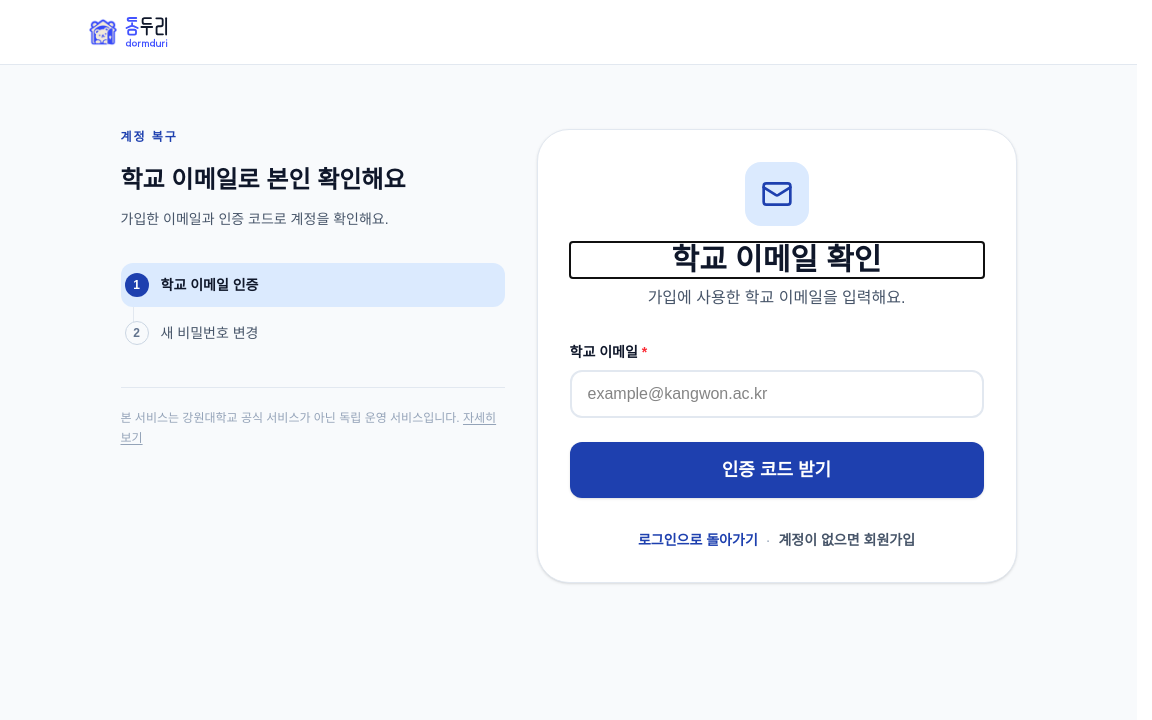
Scenario: PasswordResetPageClient › code request 성공은 임의 지연 없이 neutral verification 화면으로 이동한다
Type "test@kangwon.ac.kr" into the field labelled "학교 이메일*" at (776, 394), box [570,370,984,418]
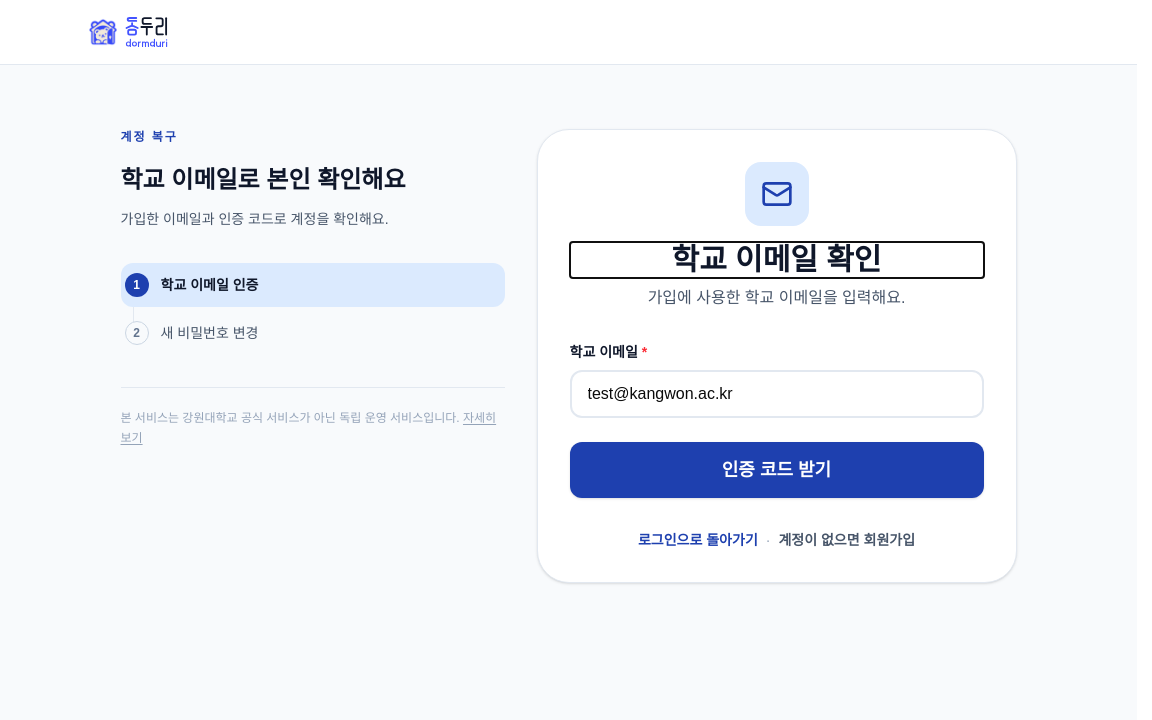
Click the button "인증 코드 받기" at (776, 470), box [570,442,984,498]
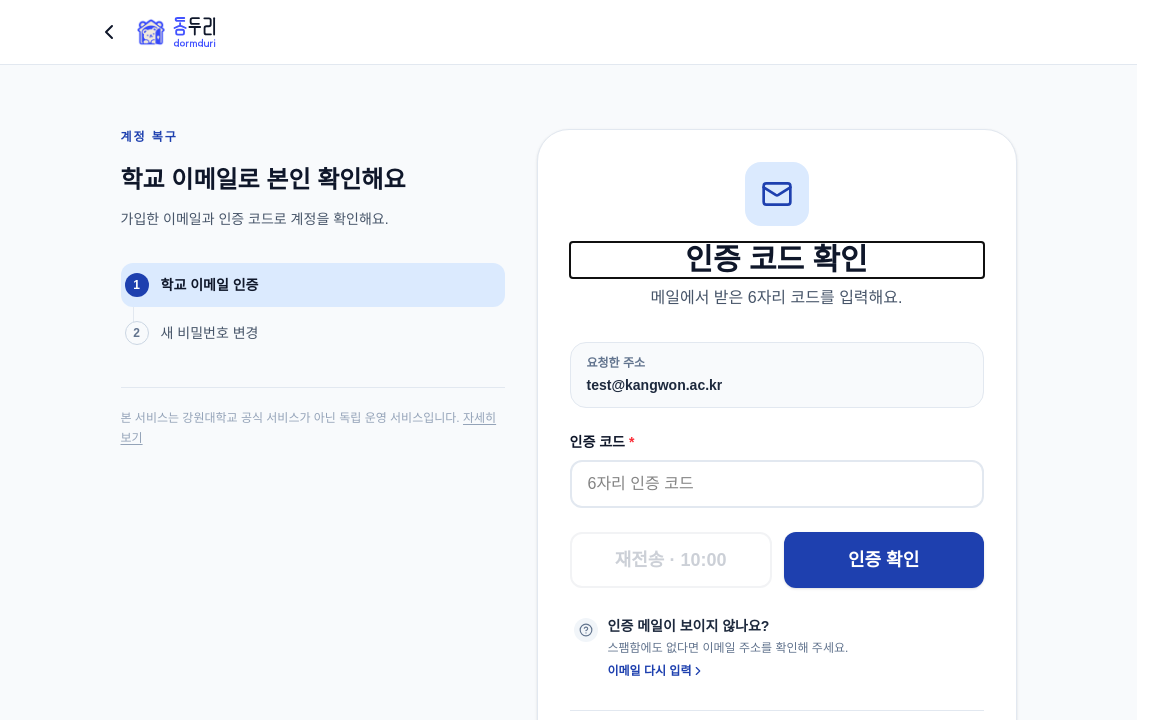
Expected: the heading "인증 코드 확인" is shown, [685,243,868,276]
Expected: the element named "인증 코드를 요청한 주소" shows "test@kangwon.ac.kr", [586,377,722,393]
Expected: the button "재전송 · 10:00" is disabled, [570,532,772,588]
